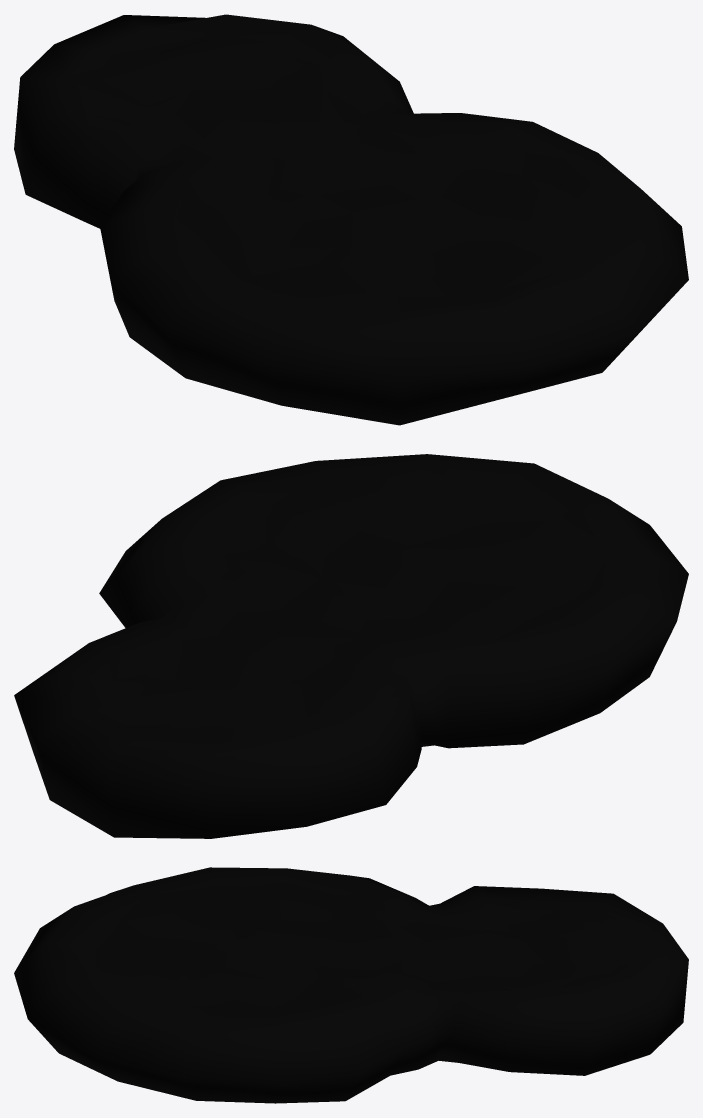
Rendered from Cookie Topping.fbx.
3 renders of one model, top to bottom at view 1: azimuth 30°, elevation 25°; view 2: azimuth 150°, elevation 25°; view 3: azimuth 270°, elevation 25°, orthographic. The views are drawn at different scales.
Parts seen in each view (by area): view 1: Cookie_Topping; view 2: Cookie_Topping; view 3: Cookie_Topping.
Part boxes in pixels (box(x1,y1,x2,y2)): Cookie_Topping: box(14, 14, 688, 425); Cookie_Topping: box(14, 454, 688, 838); Cookie_Topping: box(14, 867, 688, 1103).
Size of the model in its own units: 336 by 71 by 486.
